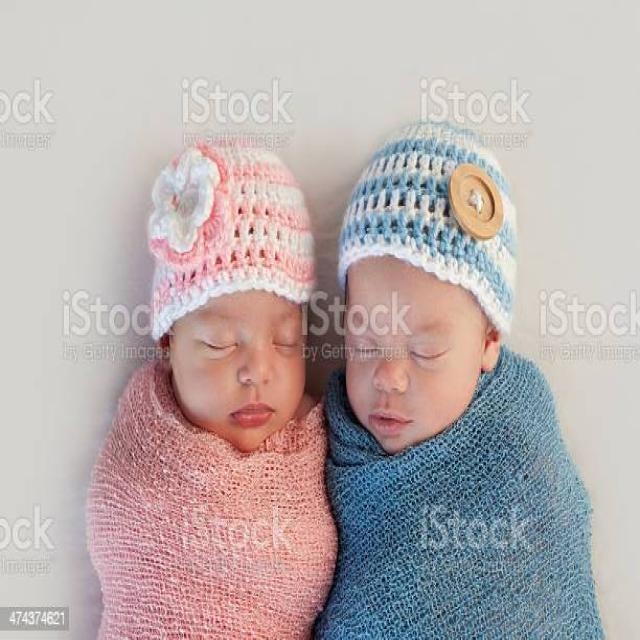non-dog: (315, 121, 607, 640), (81, 134, 340, 640)
